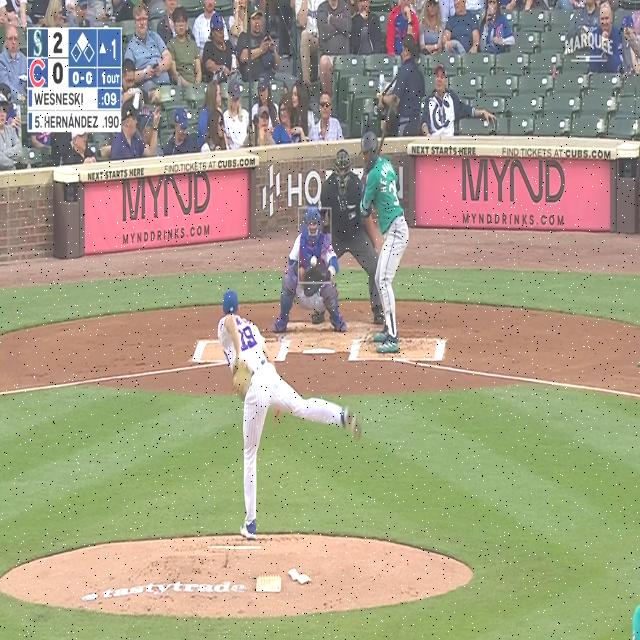baseball: (310, 255, 317, 267)
